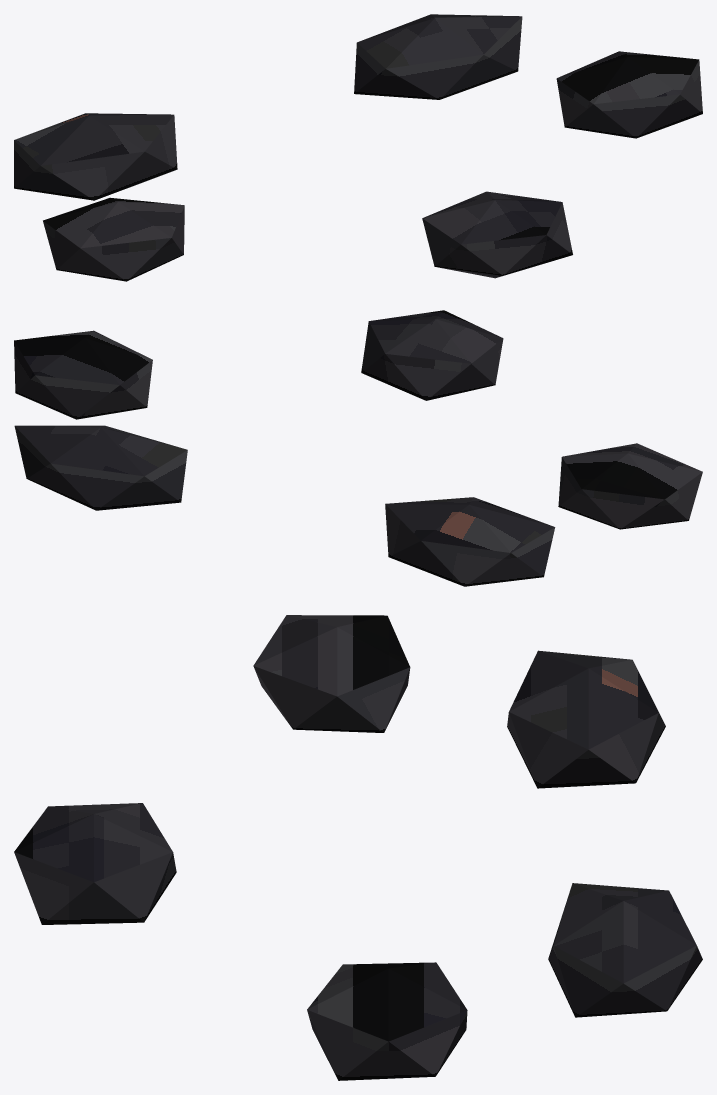
Rendered from enfeite_seixos.glb.
3 renders of one model, top to bottom at view 1: azimuth 30°, elevation 25°; view 2: azimuth 150°, elevation 25°; view 3: azimuth 270°, elevation 25°, orthographic. The views are drawn at different scales.
Parts seen in each view (by area): view 1: vulcao_enfeite_seixos; view 2: vulcao_enfeite_seixos; view 3: vulcao_enfeite_seixos.
Boxes of the visible parts, x1,y1,x2,y2 form: vulcao_enfeite_seixos: [14, 14, 702, 281]; vulcao_enfeite_seixos: [14, 310, 702, 586]; vulcao_enfeite_seixos: [14, 615, 702, 1080].
Size of the model in its own units: 0.4473 by 0.0523 by 0.3027.
Materials: 1 (1 with a texture image).
